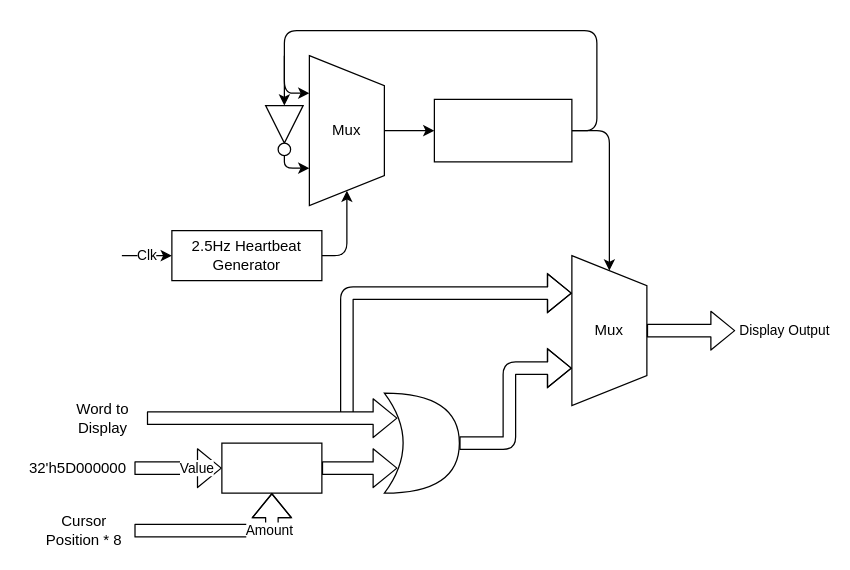
Image size: 850x570. Some labels were removed from this diagram. Here are the shapes that lost their labels. From the top down, the centre of each, then its label:
At point 502,130: "Display Cursor 1 Bit Flip Flop".
At point 271,467: "Right Shifter".
